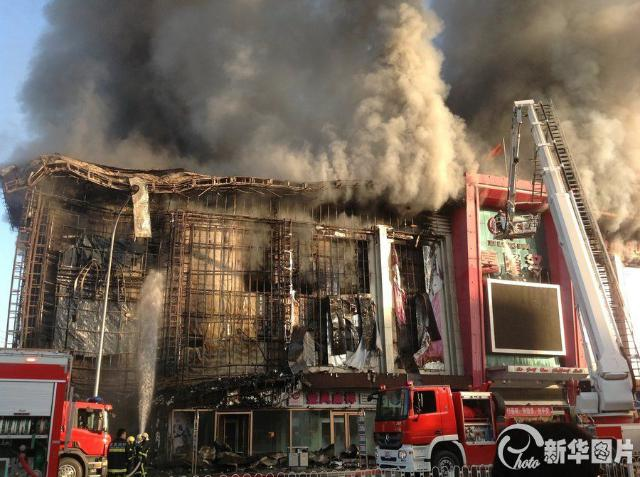smoke: (42, 0, 466, 168), (468, 2, 638, 91), (312, 170, 462, 215), (590, 95, 634, 215)
